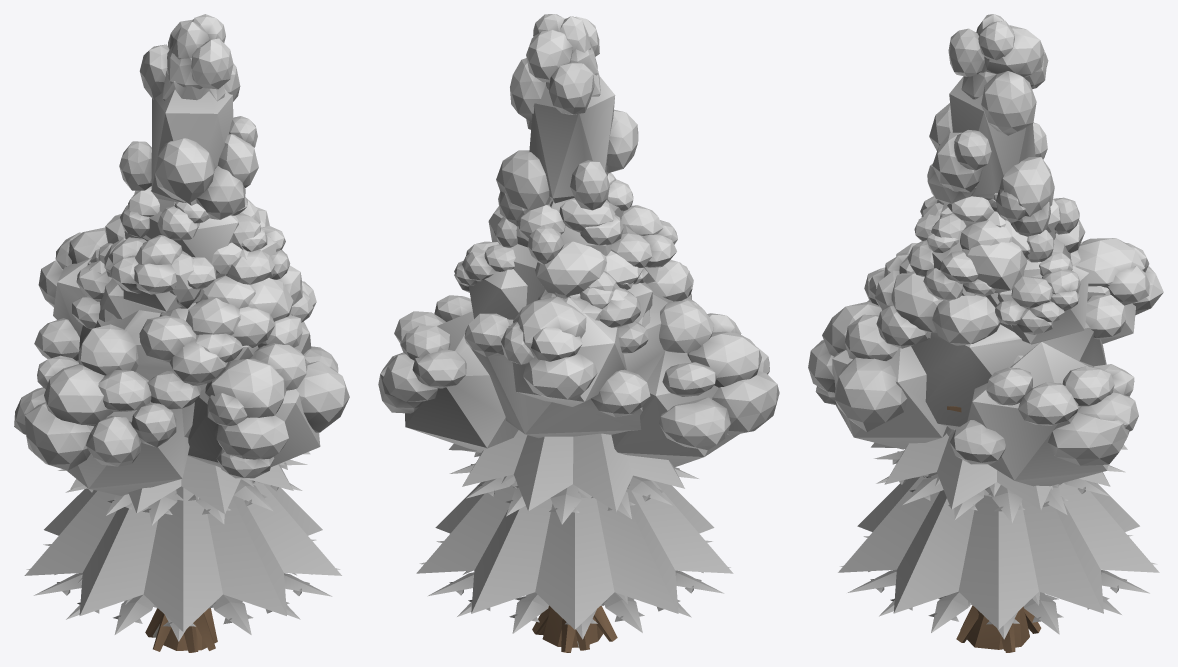
Rendered from trees-near.glb.
The picture shows the model from 3 angles, left to right: view 1: azimuth 30°, elevation 25°; view 2: azimuth 150°, elevation 25°; view 3: azimuth 270°, elevation 25°; orthographic projection.
Visible parts, largest first — view 1: TreeBroadleafNear, TreeConiferNear, TreePoplarNear, TreeBirchNear; view 2: TreeBroadleafNear, TreeConiferNear, TreePoplarNear, TreeBirchNear; view 3: TreeBroadleafNear, TreeConiferNear, TreePoplarNear, TreeBirchNear.
Part boxes in pixels (x1,y1,x2,y2): TreeBroadleafNear: (14, 207, 349, 651); TreeConiferNear: (24, 452, 341, 652); TreePoplarNear: (98, 14, 260, 651); TreeBirchNear: (72, 186, 290, 650); TreeBroadleafNear: (378, 206, 779, 652); TreeConiferNear: (416, 430, 733, 650); TreePoplarNear: (495, 14, 650, 648); TreeBirchNear: (454, 172, 677, 648); TreeBroadleafNear: (808, 219, 1163, 652); TreeConiferNear: (838, 429, 1159, 650); TreePoplarNear: (921, 14, 1080, 649); TreeBirchNear: (907, 196, 1089, 363).
Size of the model in its own units: 3.03 by 5.5 by 2.83.
